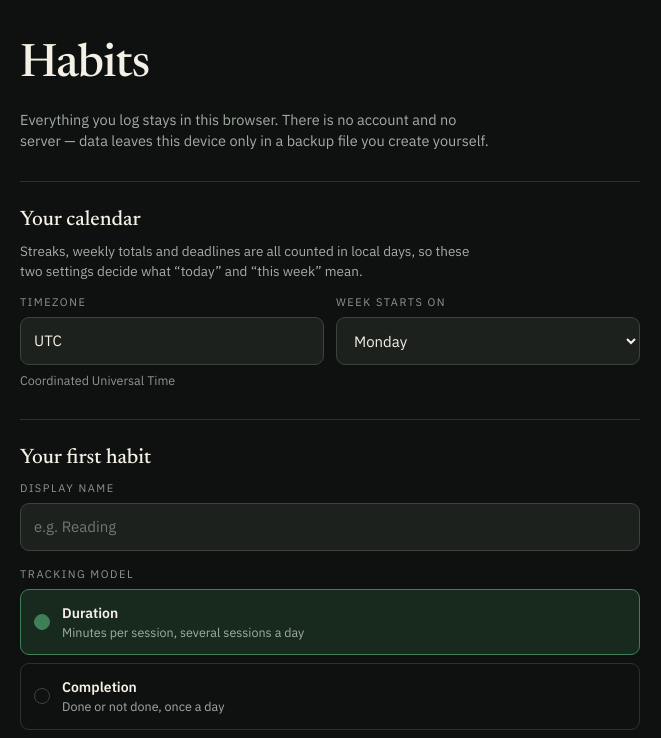
Scenario: Onboarding › rejects an unrecognised timezone rather than guessing
Type "Reading" into the field labelled "Display name" at (330, 527), box [20,503,640,551]
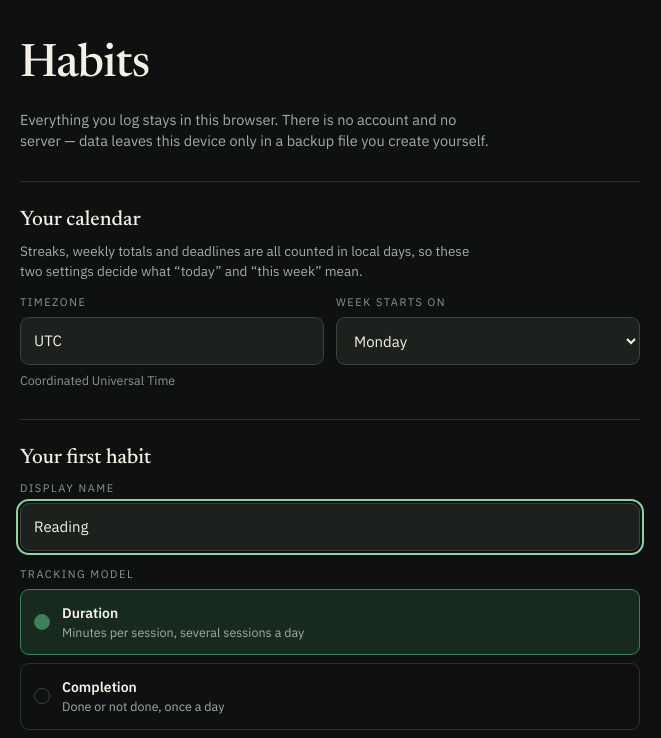
Replace the text in the field labelled "Timezone" with "Mars/Olympus" at (172, 341), box [20,317,324,365]
(page scrolled)
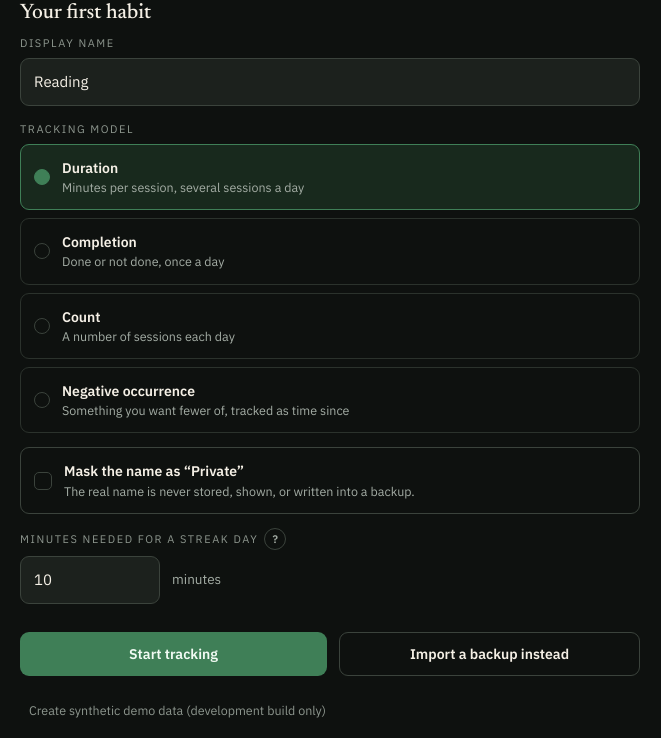
Click the button "Start tracking" at (174, 654), box [20,632,327,676]
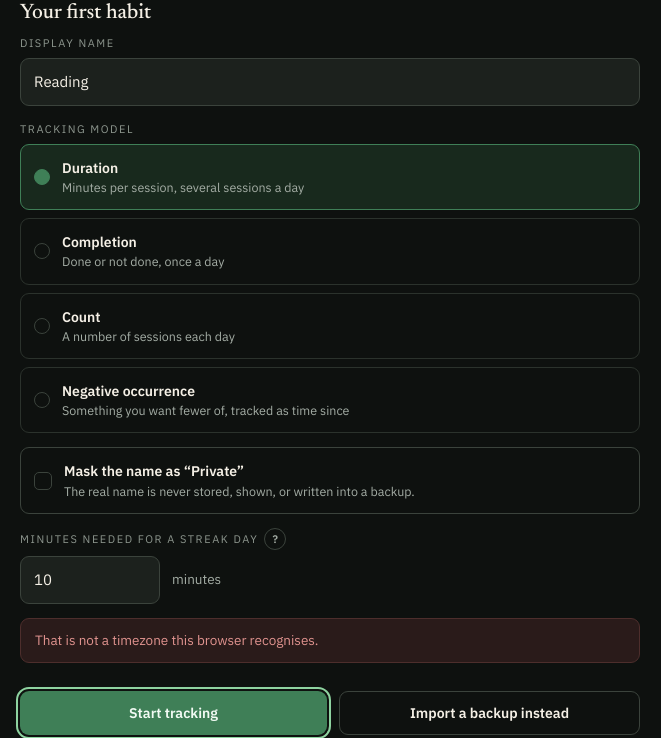
Now the message shows "not a timezone this browser", box [35,631,318,649]
